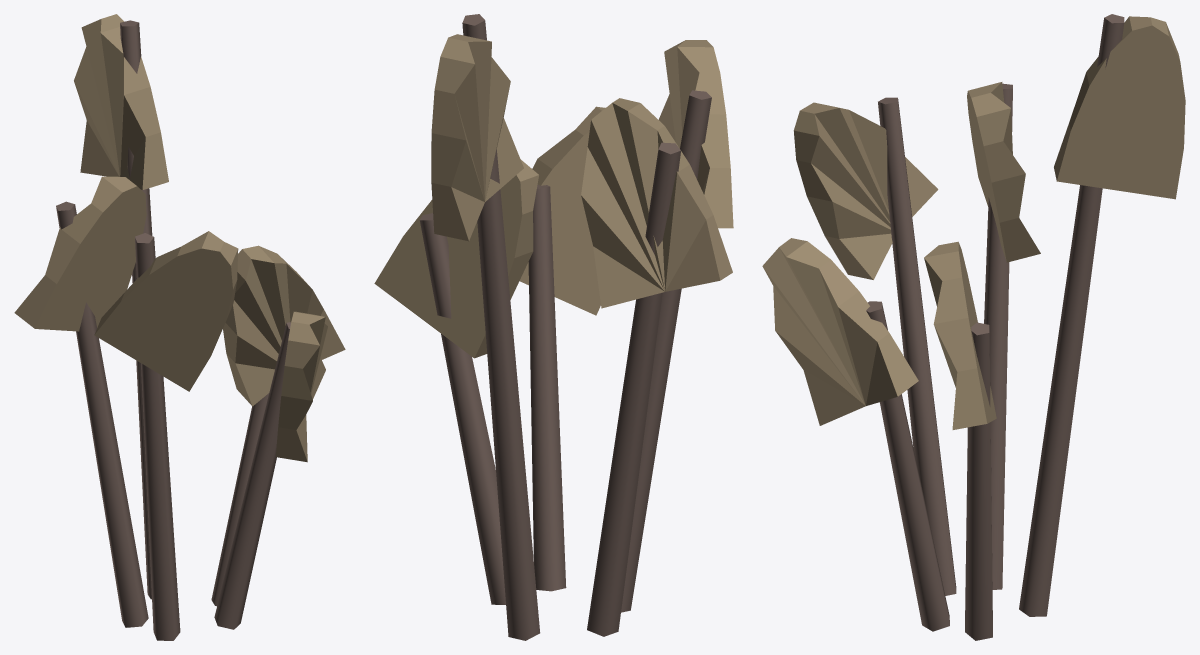
File: plant-ashReed.glb
The picture shows the model from 3 angles, left to right: view 1: azimuth 30°, elevation 25°; view 2: azimuth 150°, elevation 25°; view 3: azimuth 270°, elevation 25°; orthographic projection. The views are drawn at different scales.
Visible parts, largest first — view 1: plant-ashReed; view 2: plant-ashReed; view 3: plant-ashReed.
Boxes of the visible parts, box(x1,y1,x2,y2) form: plant-ashReed: box(14, 14, 345, 640); plant-ashReed: box(374, 14, 733, 640); plant-ashReed: box(762, 14, 1185, 640).
Bounding box in the file's own units: 0.5676 × 0.9767 × 0.6253.
